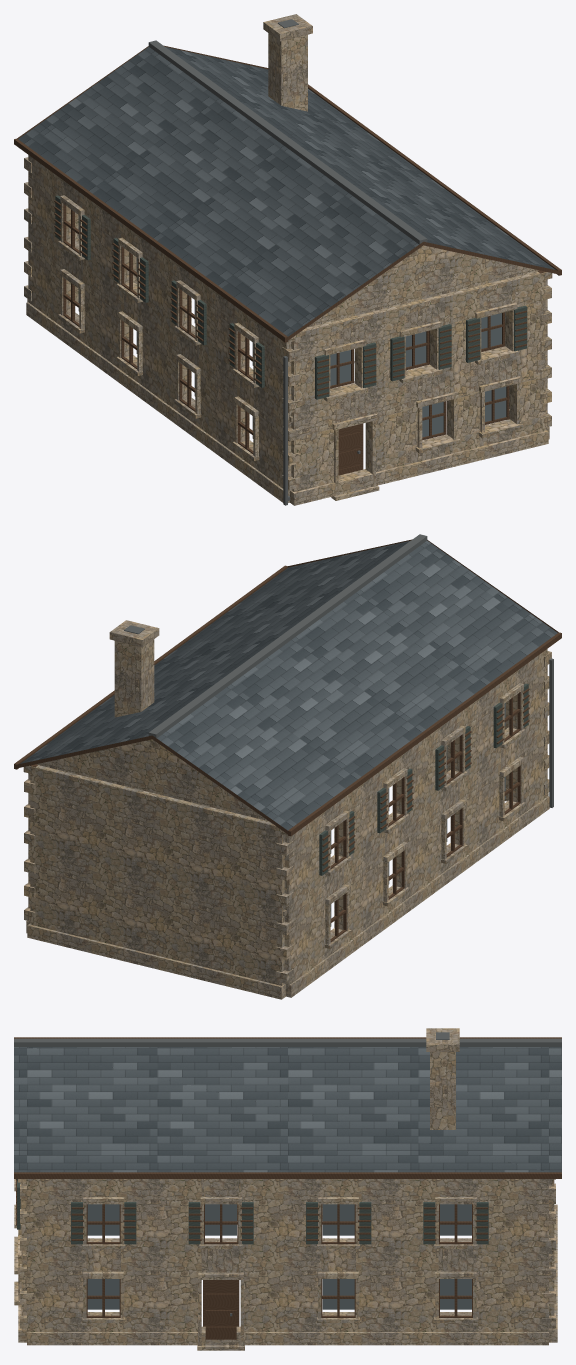
File: townhouse_stone_gable_9x16.glb
The picture shows the model from 3 angles, top to bottom: view 1: azimuth 30°, elevation 25°; view 2: azimuth 150°, elevation 25°; view 3: azimuth 270°, elevation 25°; orthographic projection.
Visible parts, largest first — view 1: TownhouseStoneGable; view 2: TownhouseStoneGable; view 3: TownhouseStoneGable.
Boxes of the visible parts, <box> form: TownhouseStoneGable: <box>14,14,561,505</box>; TownhouseStoneGable: <box>14,534,561,999</box>; TownhouseStoneGable: <box>14,1028,561,1350</box>.
Size of the model in its own units: 9.91 by 9.66 by 16.8.
6 materials, 4 textured.
